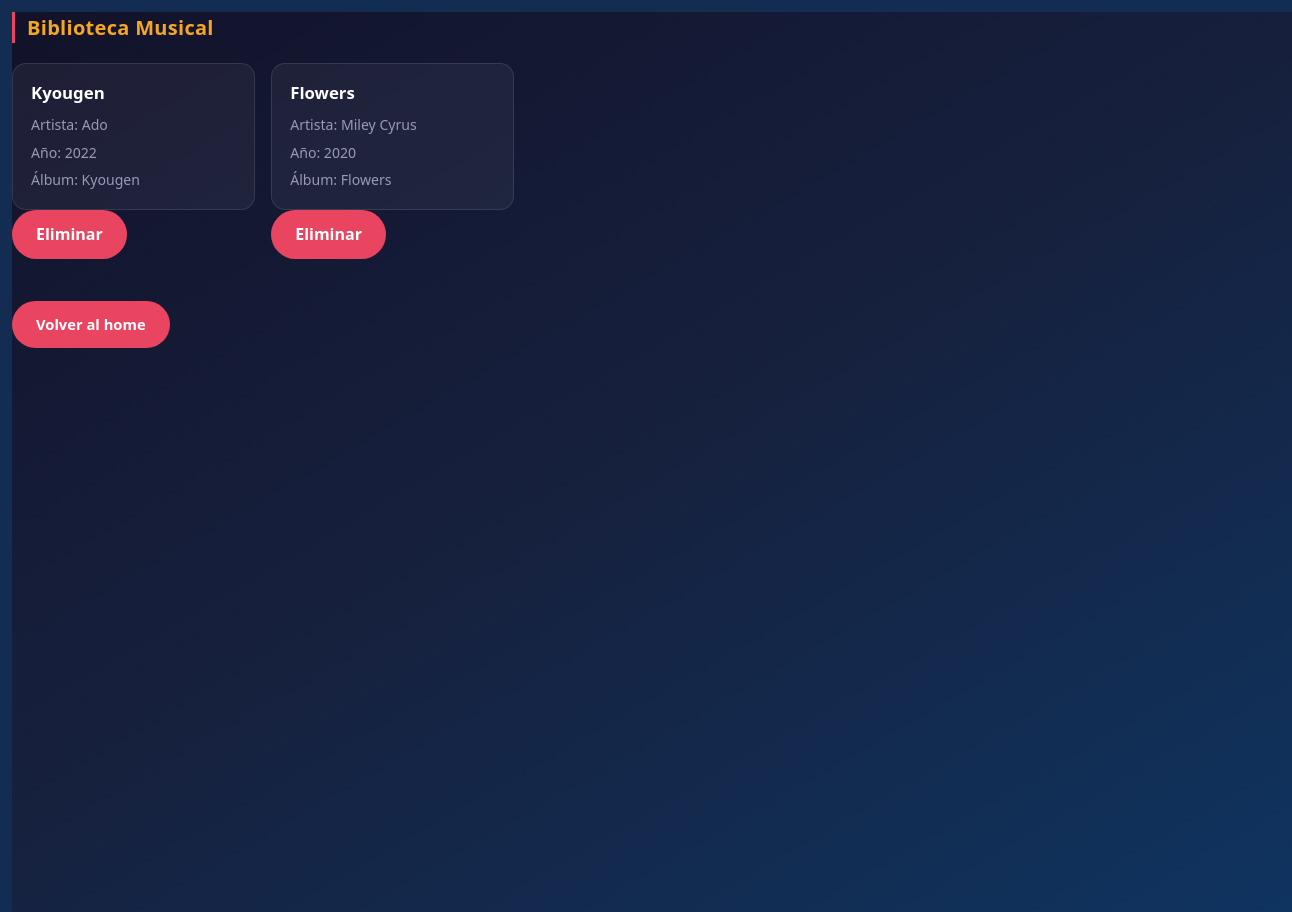
it: Library Component › remove from library
The image size is (1292, 912).
Click the button "Eliminar" below "2022" at x=69, y=235, box [12,210,127,259]
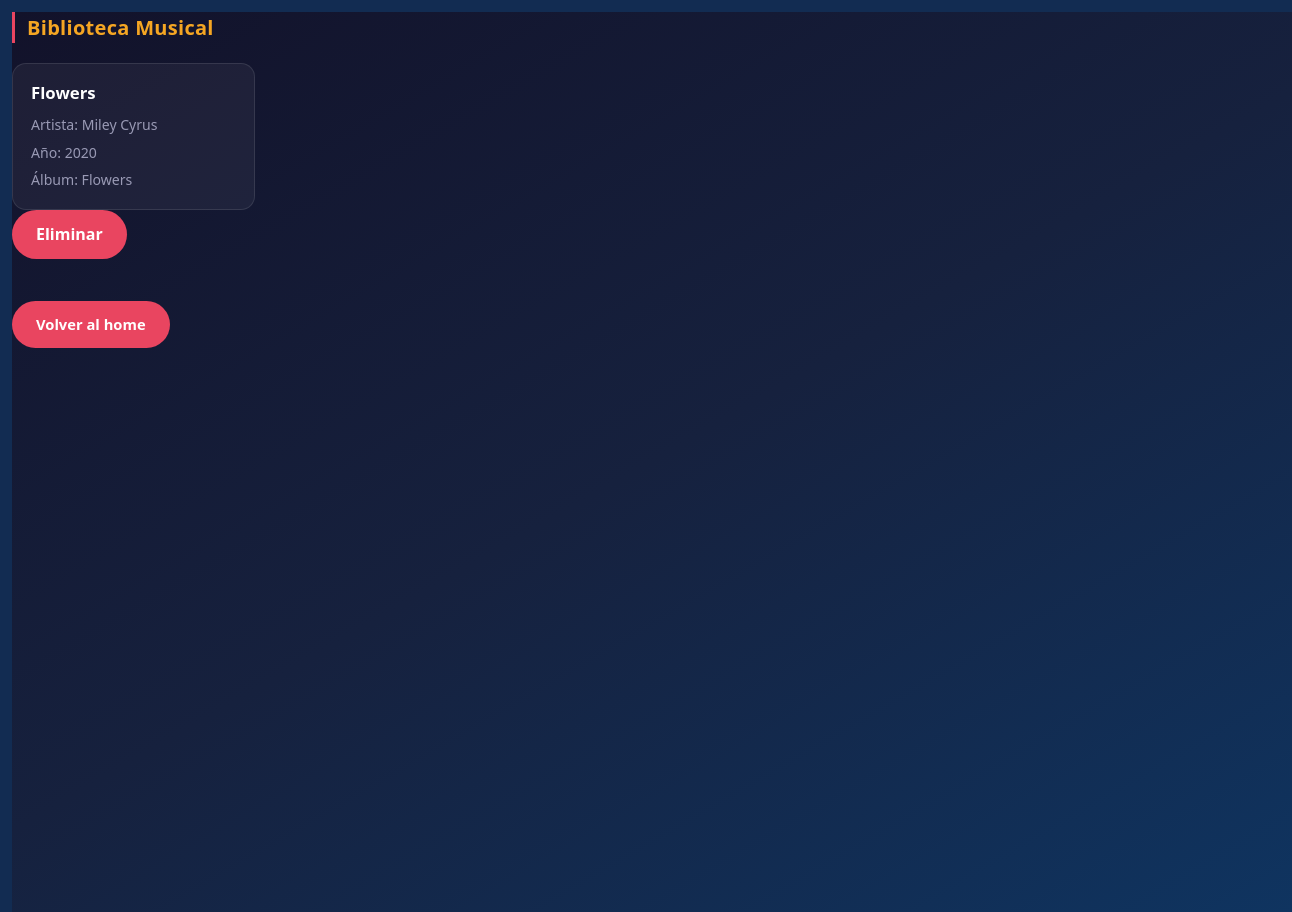
Now the link "Kyougen" is gone
